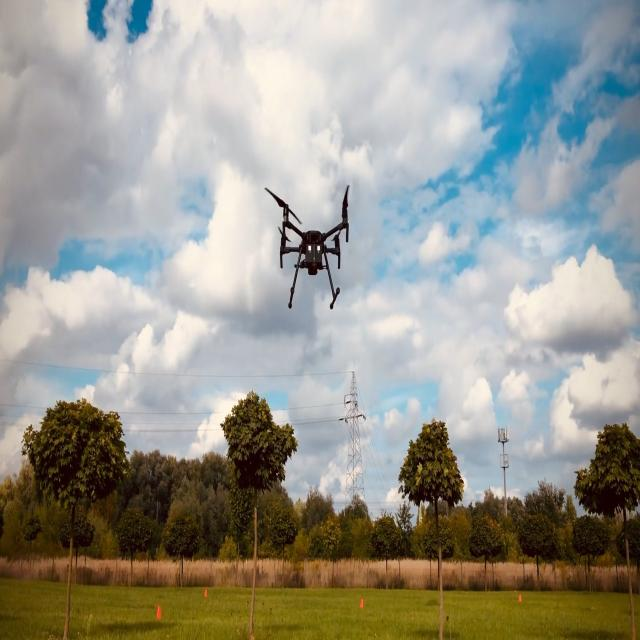drone: (264, 183, 350, 311)
